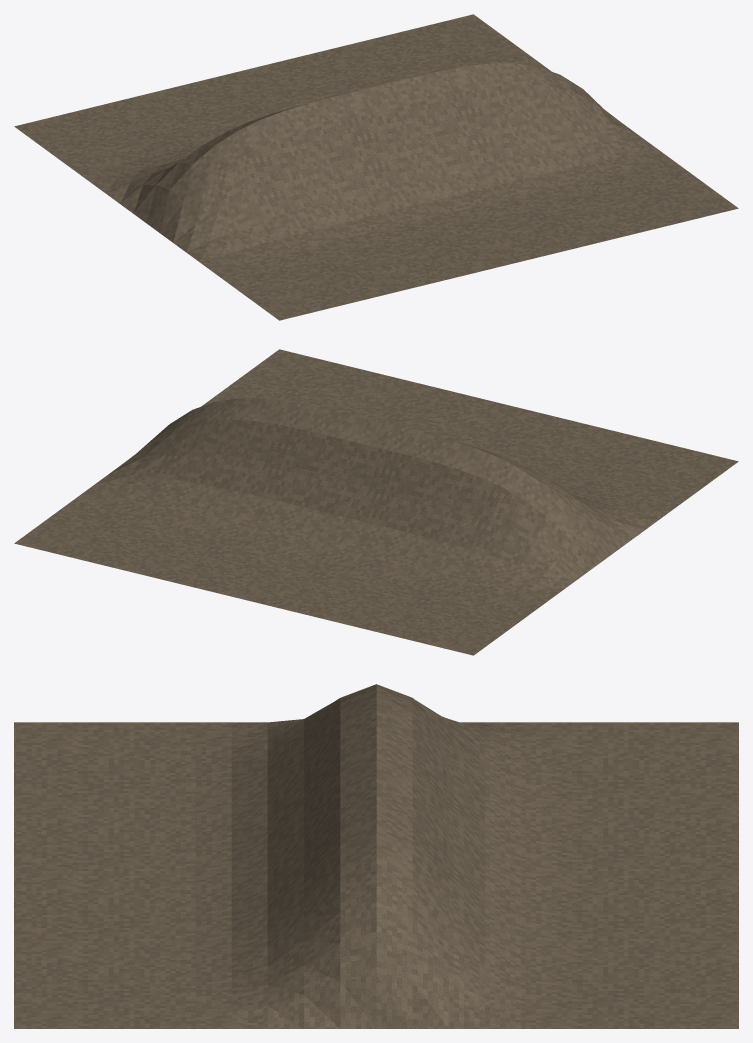
The picture shows the model from 3 angles, top to bottom: view 1: azimuth 30°, elevation 25°; view 2: azimuth 150°, elevation 25°; view 3: azimuth 270°, elevation 25°; orthographic projection. The views are drawn at different scales.
Visible parts, largest first — view 1: ST2-T02_Mesh; view 2: ST2-T02_Mesh; view 3: ST2-T02_Mesh.
Boxes of the visible parts, x1,y1,x2,y2 form: ST2-T02_Mesh: [14, 14, 738, 320]; ST2-T02_Mesh: [14, 349, 738, 655]; ST2-T02_Mesh: [14, 684, 738, 1028].
Bounding box in the file's own units: 8 × 1.35 × 8.
